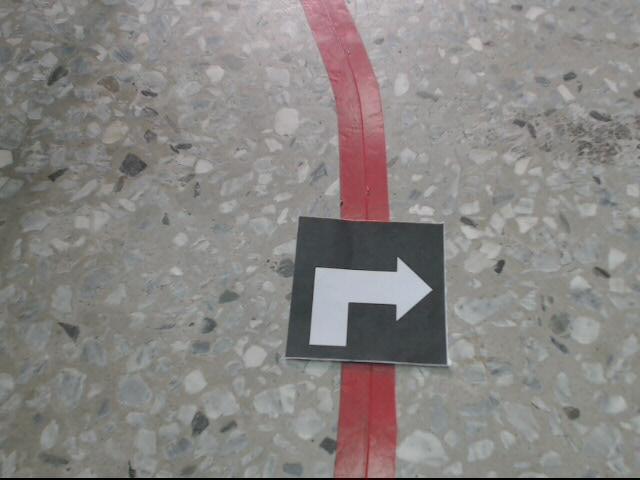right: (286, 214, 450, 366)
